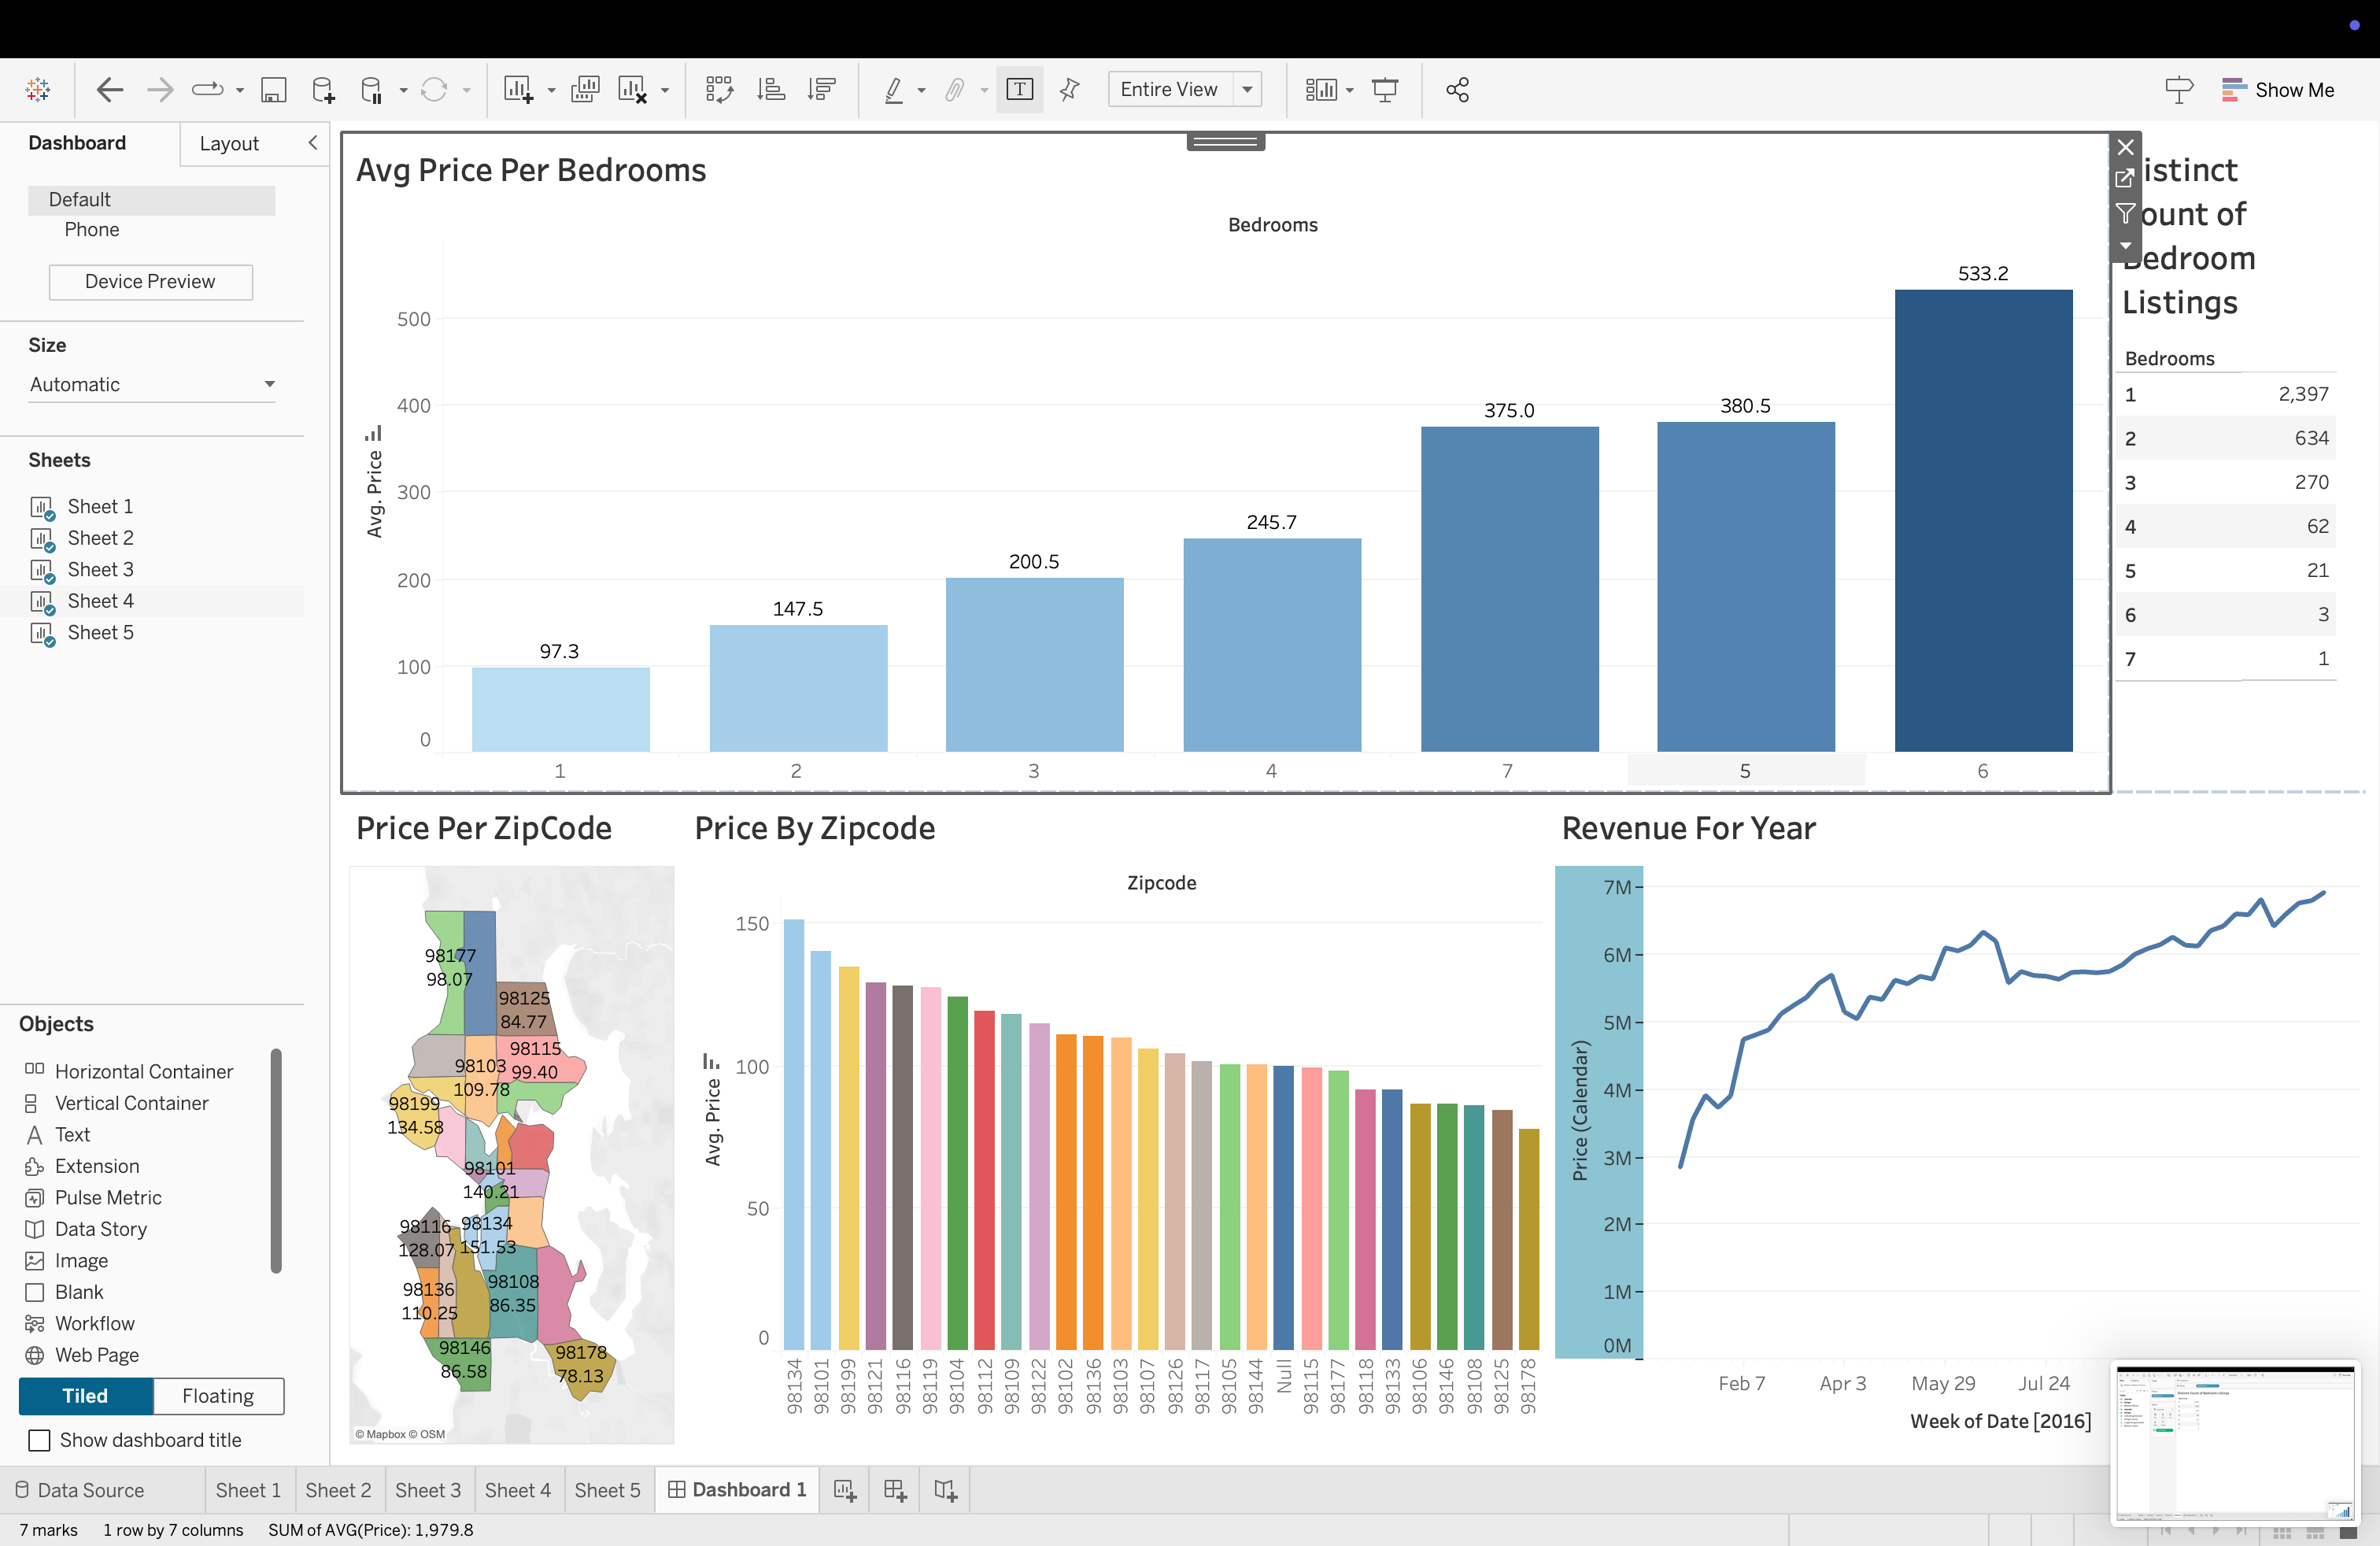

The page's visual inventory and layout, read from the dashboard file:
{"tool":"tableau","page":{"name":"Dashboard 1","canvas":[1000,1000],"units":"permille","ordinal":0},"visuals":[{"type":"worksheet","title":"Sheet 4","mark":"Automatic","rows":["price"],"cols":["bedrooms"],"box":[6.2,9.4,862.7,489.9]},{"type":"worksheet","title":"Sheet 5","mark":"Automatic","rows":["bedrooms"],"box":[868.9,9.4,125,489.9]},{"type":"worksheet","title":"Sheet 2","mark":"Multipolygon","box":[6.2,499.3,165.2,491.3]},{"type":"worksheet","title":"Sheet 1","mark":"Automatic","rows":["price"],"cols":["zipcode"],"box":[171.4,499.3,423.5,491.3]},{"type":"worksheet","title":"Sheet 3","mark":"Automatic","rows":["price (calendar)"],"cols":["date"],"box":[594.9,499.3,399,491.3]}]}

Visuals, with their boxes on the dashboard's canvas, which has no fixed pixel size, in thousandths of its width and height (x1, y1, x2, y2). These are canvas units, not pixel positions in the 2380x1546 screenshot, which may show the page scaled, cropped or inside an application window:
"Sheet 4" worksheet: x1=6, y1=9, x2=869, y2=499
"Sheet 5" worksheet: x1=869, y1=9, x2=994, y2=499
"Sheet 2" worksheet (Multipolygon marks): x1=6, y1=499, x2=171, y2=991
"Sheet 1" worksheet: x1=171, y1=499, x2=595, y2=991
"Sheet 3" worksheet: x1=595, y1=499, x2=994, y2=991
